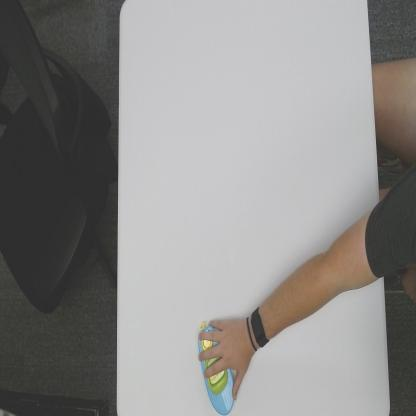Arm: (263, 212, 384, 331)
Boat: (197, 317, 235, 416)
Hand: (198, 318, 250, 400)
